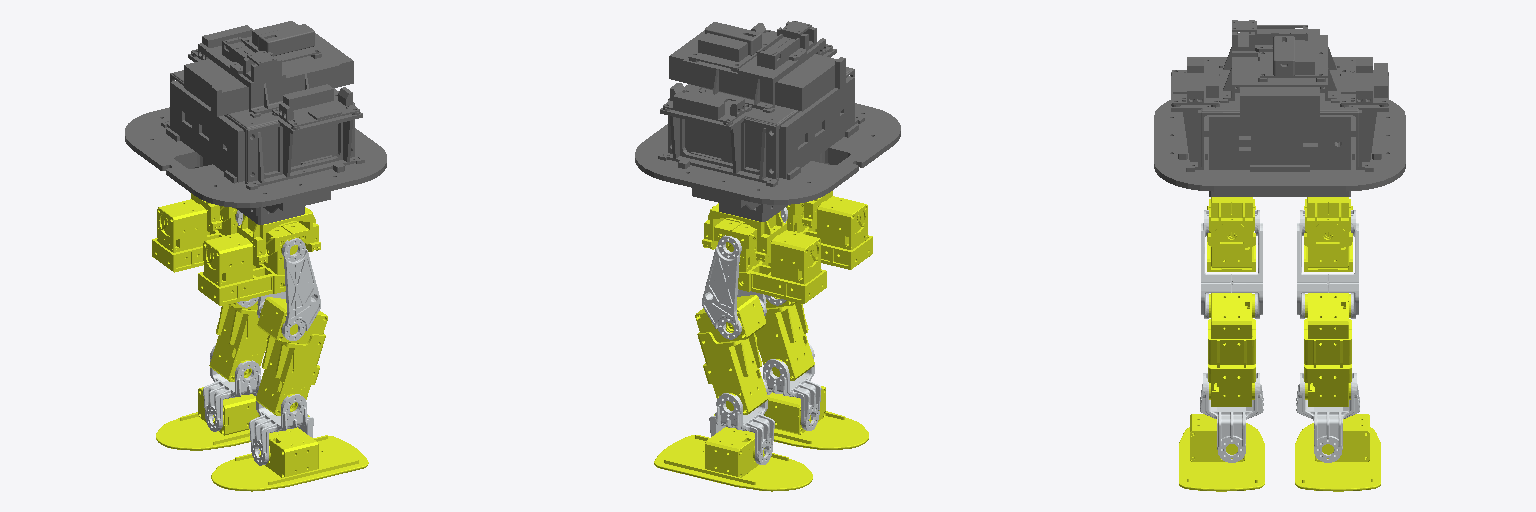
The robot description file, URDF, robot "exhx5_w_b_16":
<?xml version="1.0" encoding="utf-8"?>
<!-- This URDF was automatically created by SolidWorks to URDF Exporter! Originally created by [author] ([email redacted]) 
     Commit Version: 1.5.1-0-g916b5db  Build Version: 1.5.7152.31018
     For more information, please see http://wiki.ros.org/sw_urdf_exporter -->
<robot
  name="exhx5_w_b_16">
  <link
    name="body_link">
    <inertial>
      <origin
        xyz="0.00043545 0.00025536 0.10071"
        rpy="0 0 0" />
      <mass
        value="1.8238" />
      <inertia
        ixx="0.0025905"
        ixy="-5.6852E-06"
        ixz="-1.3106E-05"
        iyy="0.0024595"
        iyz="-1.261E-06"
        izz="0.0046407" />
    </inertial>
    <visual>
      <origin
        xyz="0 0 0"
        rpy="0 0 0" />
      <geometry>
        <mesh
          filename="../meshes/body_link.STL" />
      </geometry>
      <material
        name="">
        <color
          rgba="0.49804 0.49804 0.49804 1" />
      </material>
    </visual>
    <collision>
      <origin
        xyz="0 0 0"
        rpy="0 0 0" />
      <geometry>
        <mesh
          filename="../meshes/body_link.STL" />
      </geometry>
    </collision>
  </link>

  <link
    name="imu_link">
    <inertial>
      <origin
        xyz="-0.008387 1.336E-17 -0.0069463"
        rpy="0 0 0" />
      <mass
        value="0.0062931" />
      <inertia
        ixx="3.2242E-07"
        ixy="3.3527E-22"
        ixz="-6.9193E-08"
        iyy="9.2229E-07"
        iyz="-8.0392E-22"
        izz="1.1018E-06" />
    </inertial>
    <visual>
      <origin
        xyz="0 0 0"
        rpy="0 0 0" />
      <geometry>
        <mesh
          filename="../meshes/imu_link.STL" />
      </geometry>
      <material
        name="">
        <color
          rgba="0.79216 0.81961 0.93333 1" />
      </material>
    </visual>
    <collision>
      <origin
        xyz="0 0 0"
        rpy="0 0 0" />
      <geometry>
        <mesh
          filename="../meshes/imu_link.STL" />
      </geometry>
    </collision>
  </link>
  <joint
    name="imu"
    type="fixed">
    <origin
      xyz="0 0 0.0492"
      rpy="0 0 0" />
    <parent
      link="body_link" />
    <child
      link="imu_link" />
    <axis
      xyz="0 0 0" />
    <limit
      lower="-3.14"
      upper="3.14"
      effort="4"
      velocity="4" />
  </joint>
  <link
    name="l_hip_g_link">
    <inertial>
      <origin
        xyz="-0.0043797 -8.6604E-08 0.011813"
        rpy="0 0 0" />
      <mass
        value="0.061008" />
      <inertia
        ixx="1.167E-05"
        ixy="7.1767E-11"
        ixz="9.1442E-09"
        iyy="2.2342E-05"
        iyz="2.5177E-11"
        izz="2.4892E-05" />
    </inertial>
    <visual>
      <origin
        xyz="0 0 0"
        rpy="0 0 0" />
      <geometry>
        <mesh
          filename="../meshes/l_hip_g_link.STL" />
      </geometry>
      <material
        name="">
        <color
          rgba="0.9451 1 0.18431 1" />
      </material>
    </visual>
    <collision>
      <origin
        xyz="0 0 0"
        rpy="0 0 0" />
      <geometry>
        <mesh
          filename="../meshes/l_hip_g_link.STL" />
      </geometry>
    </collision>
  </link>
  <joint
    name="l_hip_g"
    type="fixed">
    <origin
      xyz="-.002 0.04 0"
      rpy="0 0 0" />
    <parent
      link="body_link" />
    <child
      link="l_hip_g_link" />
    <axis
      xyz="0 0 0" />
  </joint>
  <link
    name="l_hip_roll_link">
    <inertial>
      <origin
        xyz="0.013831 0.00033457 0.025453"
        rpy="0 0 0" />
      <mass
        value="0.2969" />
      <inertia
        ixx="7.8136E-05"
        ixy="7.265E-07"
        ixz="-6.9809E-08"
        iyy="9.2183E-05"
        iyz="-5.6881E-11"
        izz="7.1034E-05" />
    </inertial>
    <visual>
      <origin
        xyz="0 0 0"
        rpy="0 0 0" />
      <geometry>
        <mesh
          filename="../meshes/l_hip_roll_link.STL" />
      </geometry>
      <material
        name="">
        <color
          rgba="0.9451 1 0.18431 1" />
      </material>
    </visual>
    <collision>
      <origin
        xyz="0 0 0"
        rpy="0 0 0" />
      <geometry>
        <mesh
          filename="../meshes/l_hip_roll_link.STL" />
      </geometry>
    </collision>
  </link>
  <joint
    name="l_hip_roll"
    type="revolute">
    <origin
      xyz="0 0 0"
      rpy="3.1416 1.5708 0" />
    <parent
      link="l_hip_g_link" />
    <child
      link="l_hip_roll_link" />
    <axis
      xyz="0 0 1" />
    <limit
      lower="-3.14"
      upper="3.14"
      effort="4"
      velocity="4" />
  </joint>
  <link
    name="l_hip_pitch_link">
    <inertial>
      <origin
        xyz="0.041225 -0.007321 -5.0713E-08"
        rpy="0 0 0" />
      <mass
        value="0.051592" />
      <inertia
        ixx="2.7959E-05"
        ixy="2.0752E-06"
        ixz="-8.0934E-11"
        iyy="4.8156E-05"
        iyz="3.6317E-11"
        izz="2.9604E-05" />
    </inertial>
    <visual>
      <origin
        xyz="0 0 0"
        rpy="0 0 0" />
      <geometry>
        <mesh
          filename="../meshes/l_hip_pitch_link.STL" />
      </geometry>
      <material
        name="">
        <color
          rgba="0.89804 0.91765 0.92941 1" />
      </material>
    </visual>
    <collision>
      <origin
        xyz="0 0 0"
        rpy="0 0 0" />
      <geometry>
        <mesh
          filename="../meshes/l_hip_pitch_link.STL" />
      </geometry>
    </collision>
  </link>
  <joint
    name="l_hip_pitch"
    type="revolute">
    <origin
      xyz="0 0 0"
      rpy="1.5708 0 0" />
    <parent
      link="l_hip_roll_link" />
    <child
      link="l_hip_pitch_link" />
    <axis
      xyz="0 0 1" />
    <limit
      lower="-3.14"
      upper="3.14"
      effort="4"
      velocity="4" />
  </joint>
  <link
    name="l_knee_link">
    <inertial>
      <origin
        xyz="0.033756 -0.0084189 -6.6115E-09"
        rpy="0 0 0" />
      <mass
        value="0.28878" />
      <inertia
        ixx="6.6724E-05"
        ixy="7.5004E-07"
        ixz="-8.4578E-07"
        iyy="6.5699E-05"
        iyz="4.1085E-07"
        izz="7.0381E-05" />
    </inertial>
    <visual>
      <origin
        xyz="0 0 0"
        rpy="0 0 0" />
      <geometry>
        <mesh
          filename="../meshes/l_knee_link.STL" />
      </geometry>
      <material
        name="">
        <color
          rgba="0.9451 1 0.18431 1" />
      </material>
    </visual>
    <collision>
      <origin
        xyz="0 0 0"
        rpy="0 0 0" />
      <geometry>
        <mesh
          filename="../meshes/l_knee_link.STL" />
      </geometry>
    </collision>
  </link>
  <joint
    name="l_knee"
    type="revolute">
    <origin
      xyz="0.075954 0 0"
      rpy="0 0 0" />
    <parent
      link="l_hip_pitch_link" />
    <child
      link="l_knee_link" />
    <axis
      xyz="0 0 1" />
    <limit
      lower="-3.14"
      upper="3.14"
      effort="4"
      velocity="4" />
  </joint>
  <link
    name="l_ank_pitch_link">
    <inertial>
      <origin
        xyz="0.022786 -7.3909E-09 -7.1981E-06"
        rpy="0 0 0" />
      <mass
        value="0.044772" />
      <inertia
        ixx="1.777E-05"
        ixy="8.555E-14"
        ixz="-3.3713E-09"
        iyy="1.7119E-05"
        iyz="1.7593E-11"
        izz="1.8661E-05" />
    </inertial>
    <visual>
      <origin
        xyz="0 0 0"
        rpy="0 0 0" />
      <geometry>
        <mesh
          filename="../meshes/l_ank_pitch_link.STL" />
      </geometry>
      <material
        name="">
        <color
          rgba="0.89804 0.91765 0.92941 1" />
      </material>
    </visual>
    <collision>
      <origin
        xyz="0 0 0"
        rpy="0 0 0" />
      <geometry>
        <mesh
          filename="../meshes/l_ank_pitch_link.STL" />
      </geometry>
    </collision>
  </link>
  <joint
    name="l_ank_pitch"
    type="revolute">
    <origin
      xyz="0.074602 0 0"
      rpy="3.1416 0 0" />
    <parent
      link="l_knee_link" />
    <child
      link="l_ank_pitch_link" />
    <axis
      xyz="0 0 1" />
    <limit
      lower="-3.14"
      upper="3.14"
      effort="4"
      velocity="4" />
  </joint>
  <link
    name="l_ank_roll_link">
    <inertial>
      <origin
        xyz="0.0047069 0.010728 0.0015299"
        rpy="0 0 0" />
      <mass
        value="0.16774" />
      <inertia
        ixx="0.00012039"
        ixy="-3.7428E-09"
        ixz="4.4069E-08"
        iyy="8.7735E-05"
        iyz="7.0469E-07"
        izz="4.7866E-05" />
    </inertial>
    <visual>
      <origin
        xyz="0 0 0"
        rpy="0 0 0" />
      <geometry>
        <mesh
          filename="../meshes/l_ank_roll_link.STL" />
      </geometry>
      <material
        name="">
        <color
          rgba="0.9451 1 0.18431 1" />
      </material>
    </visual>
    <collision>
      <origin
        xyz="0 0 0"
        rpy="0 0 0" />
      <geometry>
        <mesh
          filename="../meshes/l_ank_roll_link.STL" />
      </geometry>
    </collision>
  </link>
  <joint
    name="l_ank_roll"
    type="revolute">
    <origin
      xyz="0.0465 0 0"
      rpy="-1.5708 0 0" />
    <parent
      link="l_ank_pitch_link" />
    <child
      link="l_ank_roll_link" />
    <axis
      xyz="0 0 1" />
    <limit
      lower="-3.14"
      upper="3.14"
      effort="4"
      velocity="4" />
  </joint>
  <link
    name="r_hip_g_link">
    <inertial>
      <origin
        xyz="-0.0043797 -8.6604E-08 0.011813"
        rpy="0 0 0" />
      <mass
        value="0.061008" />
      <inertia
        ixx="1.167E-05"
        ixy="7.1767E-11"
        ixz="9.1442E-09"
        iyy="2.2342E-05"
        iyz="2.5177E-11"
        izz="2.4892E-05" />
    </inertial>
    <visual>
      <origin
        xyz="0 0 0"
        rpy="0 0 0" />
      <geometry>
        <mesh
          filename="../meshes/r_hip_g_link.STL" />
      </geometry>
      <material
        name="">
        <color
          rgba="0.9451 1 0.18431 1" />
      </material>
    </visual>
    <collision>
      <origin
        xyz="0 0 0"
        rpy="0 0 0" />
      <geometry>
        <mesh
          filename="../meshes/r_hip_g_link.STL" />
      </geometry>
    </collision>
  </link>
  <joint
    name="r_hip_g"
    type="fixed">
    <origin
      xyz="-.002 -.04 0"
      rpy="0 0 0" />
    <parent
      link="body_link" />
    <child
      link="r_hip_g_link" />
    <axis
      xyz="0 0 0" />
  </joint>
  <link
    name="r_hip_roll_link">
    <inertial>
      <origin
        xyz="0.013831 0.00033457 0.025453"
        rpy="0 0 0" />
      <mass
        value="0.2969" />
      <inertia
        ixx="7.8136E-05"
        ixy="7.265E-07"
        ixz="-6.9809E-08"
        iyy="9.2183E-05"
        iyz="-5.6881E-11"
        izz="7.1034E-05" />
    </inertial>
    <visual>
      <origin
        xyz="0 0 0"
        rpy="0 0 0" />
      <geometry>
        <mesh
          filename="../meshes/r_hip_roll_link.STL" />
      </geometry>
      <material
        name="">
        <color
          rgba="0.9451 1 0.18431 1" />
      </material>
    </visual>
    <collision>
      <origin
        xyz="0 0 0"
        rpy="0 0 0" />
      <geometry>
        <mesh
          filename="../meshes/r_hip_roll_link.STL" />
      </geometry>
    </collision>
  </link>
  <joint
    name="r_hip_roll"
    type="revolute">
    <origin
      xyz="0 0 0"
      rpy="3.1416 1.5708 0" />
    <parent
      link="r_hip_g_link" />
    <child
      link="r_hip_roll_link" />
    <axis
      xyz="0 0 1" />
    <limit
      lower="-3.14"
      upper="3.14"
      effort="4"
      velocity="4" />
  </joint>
  <link
    name="r_hip_pitch_link">
    <inertial>
      <origin
        xyz="0.041225 0.007321 5.0713E-08"
        rpy="0 0 0" />
      <mass
        value="0.051592" />
      <inertia
        ixx="2.7959E-05"
        ixy="-2.0752E-06"
        ixz="8.0934E-11"
        iyy="4.8156E-05"
        iyz="3.6317E-11"
        izz="2.9604E-05" />
    </inertial>
    <visual>
      <origin
        xyz="0 0 0"
        rpy="0 0 0" />
      <geometry>
        <mesh
          filename="../meshes/r_hip_pitch_link.STL" />
      </geometry>
      <material
        name="">
        <color
          rgba="0.89804 0.91765 0.92941 1" />
      </material>
    </visual>
    <collision>
      <origin
        xyz="0 0 0"
        rpy="0 0 0" />
      <geometry>
        <mesh
          filename="../meshes/r_hip_pitch_link.STL" />
      </geometry>
    </collision>
  </link>
  <joint
    name="r_hip_pitch"
    type="revolute">
    <origin
      xyz="0 0 0"
      rpy="-1.5708 0 0" />
    <parent
      link="r_hip_roll_link" />
    <child
      link="r_hip_pitch_link" />
    <axis
      xyz="0 0 1" />
    <limit
      lower="-3.14"
      upper="3.14"
      effort="4"
      velocity="4" />
  </joint>
  <link
    name="r_knee_link">
    <inertial>
      <origin
        xyz="0.033757 0.0084176 6.6115E-09"
        rpy="0 0 0" />
      <mass
        value="0.28878" />
      <inertia
        ixx="6.6724E-05"
        ixy="-7.5008E-07"
        ixz="8.458E-07"
        iyy="6.5699E-05"
        iyz="4.1081E-07"
        izz="7.0381E-05" />
    </inertial>
    <visual>
      <origin
        xyz="0 0 0"
        rpy="0 0 0" />
      <geometry>
        <mesh
          filename="../meshes/r_knee_link.STL" />
      </geometry>
      <material
        name="">
        <color
          rgba="0.9451 1 0.18431 1" />
      </material>
    </visual>
    <collision>
      <origin
        xyz="0 0 0"
        rpy="0 0 0" />
      <geometry>
        <mesh
          filename="../meshes/r_knee_link.STL" />
      </geometry>
    </collision>
  </link>
  <joint
    name="r_knee"
    type="revolute">
    <origin
      xyz="0.075954 0 0"
      rpy="0 0 0" />
    <parent
      link="r_hip_pitch_link" />
    <child
      link="r_knee_link" />
    <axis
      xyz="0 0 1" />
    <limit
      lower="-3.14"
      upper="3.14"
      effort="4"
      velocity="4" />
  </joint>
  <link
    name="r_ank_pitch_link">
    <inertial>
      <origin
        xyz="0.025786 -7.3887E-09 -7.1981E-06"
        rpy="0 0 0" />
      <mass
        value="0.044772" />
      <inertia
        ixx="1.777E-05"
        ixy="8.5434E-14"
        ixz="-3.3713E-09"
        iyy="1.7119E-05"
        iyz="1.7592E-11"
        izz="1.8661E-05" />
    </inertial>
    <visual>
      <origin
        xyz="0 0 0"
        rpy="0 0 0" />
      <geometry>
        <mesh
          filename="../meshes/r_ank_pitch_link.STL" />
      </geometry>
      <material
        name="">
        <color
          rgba="0.89804 0.91765 0.92941 1" />
      </material>
    </visual>
    <collision>
      <origin
        xyz="0 0 0"
        rpy="0 0 0" />
      <geometry>
        <mesh
          filename="../meshes/r_ank_pitch_link.STL" />
      </geometry>
    </collision>
  </link>
  <joint
    name="r_ank_pitch"
    type="revolute">
    <origin
      xyz="0.071602 0 0"
      rpy="3.1416 0 0" />
    <parent
      link="r_knee_link" />
    <child
      link="r_ank_pitch_link" />
    <axis
      xyz="0 0 1" />
    <limit
      lower="-3.14"
      upper="3.14"
      effort="4"
      velocity="4" />
  </joint>
  <link
    name="r_ank_roll_link">
    <inertial>
      <origin
        xyz="0.0077069 -0.010728 0.0015299"
        rpy="0 0 0" />
      <mass
        value="0.16774" />
      <inertia
        ixx="0.00012039"
        ixy="3.743E-09"
        ixz="4.407E-08"
        iyy="8.7735E-05"
        iyz="-7.0467E-07"
        izz="4.7866E-05" />
    </inertial>
    <visual>
      <origin
        xyz="0 0 0"
        rpy="0 0 0" />
      <geometry>
        <mesh
          filename="../meshes/r_ank_roll_link.STL" />
      </geometry>
      <material
        name="">
        <color
          rgba="0.9451 1 0.18431 1" />
      </material>
    </visual>
    <collision>
      <origin
        xyz="0 0 0"
        rpy="0 0 0" />
      <geometry>
        <mesh
          filename="../meshes/r_ank_roll_link.STL" />
      </geometry>
    </collision>
  </link>
  <joint
    name="r_ank_roll"
    type="revolute">
    <origin
      xyz="0.0465 0 0"
      rpy="1.5708 0 0" />
    <parent
      link="r_ank_pitch_link" />
    <child
      link="r_ank_roll_link" />
    <axis
      xyz="0 0 1" />
    <limit
      lower="-3.14"
      upper="3.14"
      effort="4"
      velocity="4" />
  </joint>
  <transmission name="r_hip_roll_tran">
    <type>transmission_interface/SimpleTransmission</type>
    <joint name="r_hip_roll">
      <hardwareInterface>hardware_interface/EffortJointInterface</hardwareInterface>
    </joint>
    <actuator name="r_hip_roll_motor">
      <hardwareInterface>hardware_interface/EffortJointInterface</hardwareInterface>
      <mechanicalReduction>1</mechanicalReduction>
    </actuator>
  </transmission>
  <transmission name="r_hip_pitch_tran">
    <type>transmission_interface/SimpleTransmission</type>
    <joint name="r_hip_pitch">
      <hardwareInterface>hardware_interface/EffortJointInterface</hardwareInterface>
    </joint>
    <actuator name="r_hip_pitch_motor">
      <hardwareInterface>hardware_interface/EffortJointInterface</hardwareInterface>
      <mechanicalReduction>1</mechanicalReduction>
    </actuator>
  </transmission>
  <transmission name="r_knee_tran">
    <type>transmission_interface/SimpleTransmission</type>
    <joint name="r_knee">
      <hardwareInterface>hardware_interface/EffortJointInterface</hardwareInterface>
    </joint>
    <actuator name="r_knee_motor">
      <hardwareInterface>hardware_interface/EffortJointInterface</hardwareInterface>
      <mechanicalReduction>1</mechanicalReduction>
    </actuator>
  </transmission>
  <transmission name="r_ank_pitch_tran">
    <type>transmission_interface/SimpleTransmission</type>
    <joint name="r_ank_pitch">
      <hardwareInterface>hardware_interface/EffortJointInterface</hardwareInterface>
    </joint>
    <actuator name="r_ank_pitch_motor">
      <hardwareInterface>hardware_interface/EffortJointInterface</hardwareInterface>
      <mechanicalReduction>1</mechanicalReduction>
    </actuator>
  </transmission>
  <transmission name="r_ank_roll_tran">
    <type>transmission_interface/SimpleTransmission</type>
    <joint name="r_ank_roll">
      <hardwareInterface>hardware_interface/EffortJointInterface</hardwareInterface>
    </joint>
    <actuator name="r_ank_roll_motor">
      <hardwareInterface>hardware_interface/EffortJointInterface</hardwareInterface>
      <mechanicalReduction>1</mechanicalReduction>
    </actuator>
  </transmission>
  <transmission name="l_hip_roll_tran">
    <type>transmission_interface/SimpleTransmission</type>
    <joint name="l_hip_roll">
      <hardwareInterface>hardware_interface/EffortJointInterface</hardwareInterface>
    </joint>
    <actuator name="l_hip_roll_motor">
      <hardwareInterface>hardware_interface/EffortJointInterface</hardwareInterface>
      <mechanicalReduction>1</mechanicalReduction>
    </actuator>
  </transmission>
  <transmission name="l_hip_pitch_tran">
    <type>transmission_interface/SimpleTransmission</type>
    <joint name="l_hip_pitch">
      <hardwareInterface>hardware_interface/EffortJointInterface</hardwareInterface>
    </joint>
    <actuator name="l_hip_pitch_motor">
      <hardwareInterface>hardware_interface/EffortJointInterface</hardwareInterface>
      <mechanicalReduction>1</mechanicalReduction>
    </actuator>
  </transmission>
  <transmission name="l_knee_tran">
    <type>transmission_interface/SimpleTransmission</type>
    <joint name="l_knee">
      <hardwareInterface>hardware_interface/EffortJointInterface</hardwareInterface>
    </joint>
    <actuator name="l_knee_motor">
      <hardwareInterface>hardware_interface/EffortJointInterface</hardwareInterface>
      <mechanicalReduction>1</mechanicalReduction>
    </actuator>
  </transmission>
  <transmission name="l_ank_pitch_tran">
    <type>transmission_interface/SimpleTransmission</type>
    <joint name="l_ank_pitch">
      <hardwareInterface>hardware_interface/EffortJointInterface</hardwareInterface>
    </joint>
    <actuator name="l_ank_pitch_motor">
      <hardwareInterface>hardware_interface/EffortJointInterface</hardwareInterface>
      <mechanicalReduction>1</mechanicalReduction>
    </actuator>
  </transmission>
  <transmission name="l_ank_roll_tran">
    <type>transmission_interface/SimpleTransmission</type>
    <joint name="l_ank_roll">
      <hardwareInterface>hardware_interface/EffortJointInterface</hardwareInterface>
    </joint>
    <actuator name="l_ank_roll_motor">
      <hardwareInterface>hardware_interface/EffortJointInterface</hardwareInterface>
      <mechanicalReduction>1</mechanicalReduction>
    </actuator>
  </transmission>
</robot>

--- Render facts (derived) ---
Views: 3 orthographic renders of the robot side by side, from view 1: azimuth 30°, elevation 25°; view 2: azimuth 150°, elevation 25°; view 3: azimuth 270°, elevation 25°.
Model exhx5_w_b_16 with 14 links and 13 joints (10 revolute, 3 fixed), rooted at body_link, posed every joint at zero.
Visible links, largest first — view 1: body_link, r_ank_roll_link, r_hip_roll_link, r_knee_link, l_hip_roll_link, l_ank_roll_link, l_knee_link, r_hip_pitch_link, r_ank_pitch_link, l_ank_pitch_link, r_hip_g_link; view 2: body_link, l_ank_roll_link, l_hip_roll_link, l_knee_link, r_hip_roll_link, r_ank_roll_link, r_knee_link, l_hip_pitch_link, l_ank_pitch_link, r_ank_pitch_link, l_hip_g_link; view 3: body_link, l_knee_link, r_knee_link, r_ank_roll_link, l_ank_roll_link, l_ank_pitch_link, r_ank_pitch_link, l_hip_pitch_link, r_hip_pitch_link, l_hip_g_link, r_hip_g_link, l_hip_roll_link (+1 smaller).
Link boxes in pixels (left/top/right/bottom): body_link: left=125, top=21, right=386, bottom=224; r_ank_roll_link: left=211, top=427, right=368, bottom=491; r_hip_roll_link: left=198, top=221, right=309, bottom=305; r_knee_link: left=256, top=297, right=327, bottom=415; l_hip_roll_link: left=152, top=199, right=237, bottom=272; l_ank_roll_link: left=156, top=387, right=309, bottom=450; l_knee_link: left=209, top=299, right=268, bottom=381; r_hip_pitch_link: left=257, top=238, right=320, bottom=340; r_ank_pitch_link: left=249, top=379, right=313, bottom=465; l_ank_pitch_link: left=203, top=345, right=260, bottom=431; r_hip_g_link: left=237, top=207, right=320, bottom=265; body_link: left=635, top=21, right=900, bottom=221; l_ank_roll_link: left=654, top=427, right=812, bottom=491; l_hip_roll_link: left=714, top=218, right=826, bottom=303; l_knee_link: left=695, top=295, right=767, bottom=414; r_hip_roll_link: left=786, top=196, right=872, bottom=269; r_ank_roll_link: left=714, top=386, right=868, bottom=449; r_knee_link: left=755, top=297, right=814, bottom=380; l_hip_pitch_link: left=702, top=235, right=766, bottom=339; l_ank_pitch_link: left=709, top=378, right=774, bottom=464; r_ank_pitch_link: left=763, top=344, right=821, bottom=430; l_hip_g_link: left=702, top=203, right=786, bottom=262; body_link: left=1154, top=20, right=1405, bottom=196; l_knee_link: left=1304, top=293, right=1351, bottom=406; r_knee_link: left=1208, top=293, right=1255, bottom=406; r_ank_roll_link: left=1179, top=414, right=1264, bottom=491; l_ank_roll_link: left=1295, top=414, right=1380, bottom=491; l_ank_pitch_link: left=1296, top=373, right=1359, bottom=462; r_ank_pitch_link: left=1200, top=373, right=1263, bottom=462; l_hip_pitch_link: left=1297, top=210, right=1358, bottom=318; r_hip_pitch_link: left=1201, top=210, right=1262, bottom=318; l_hip_g_link: left=1304, top=197, right=1352, bottom=246; r_hip_g_link: left=1207, top=197, right=1255, bottom=246; l_hip_roll_link: left=1304, top=199, right=1352, bottom=271.
Bounding box of the posed robot: 0.185 × 0.21 × 0.3893 m (x, y, z).
Meshes: 14 distinct files referenced, 14 mesh visuals loaded (14 binary STL).
